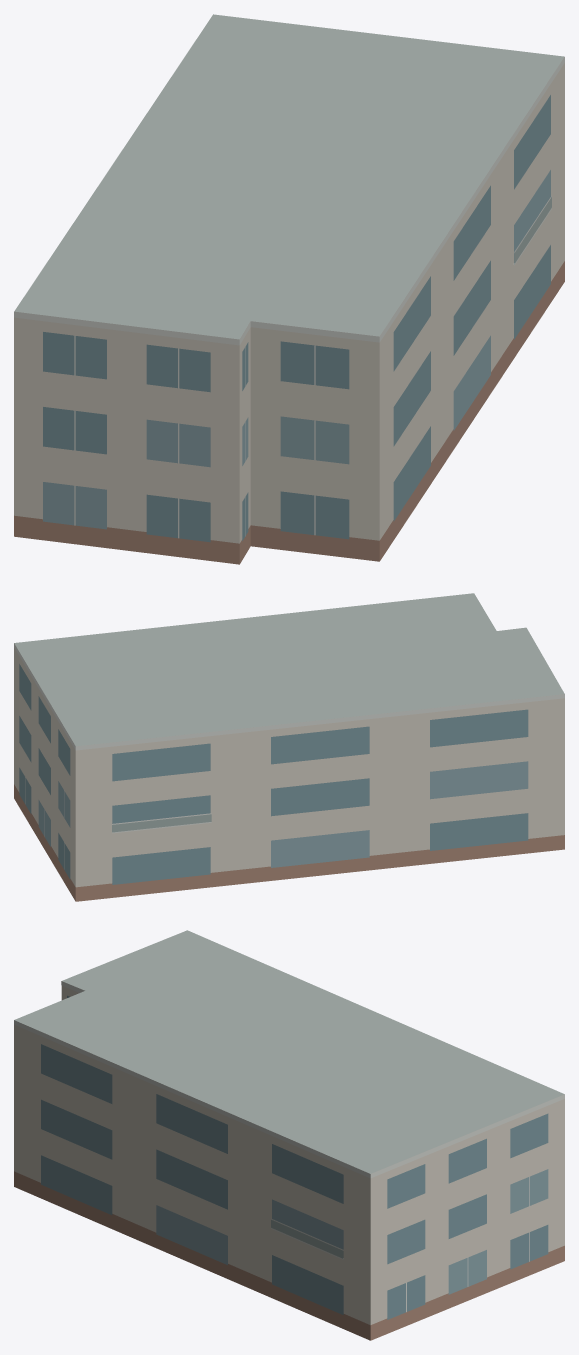
The model's file is survey-upis-32866206.glb.
The picture shows the model from 3 angles, top to bottom: view 1: azimuth 30°, elevation 25°; view 2: azimuth 150°, elevation 25°; view 3: azimuth 270°, elevation 25°; orthographic projection. The views are drawn at different scales.
Visible parts, largest first — view 1: survey-upis-32866206.tmp; view 2: survey-upis-32866206.tmp; view 3: survey-upis-32866206.tmp.
Boxes of the visible parts, bbox=[...] form: survey-upis-32866206.tmp: bbox=[14, 14, 564, 564]; survey-upis-32866206.tmp: bbox=[14, 593, 564, 901]; survey-upis-32866206.tmp: bbox=[14, 930, 564, 1340].
Bounding box in the file's own units: 28.7 × 9.15 × 27.4.
